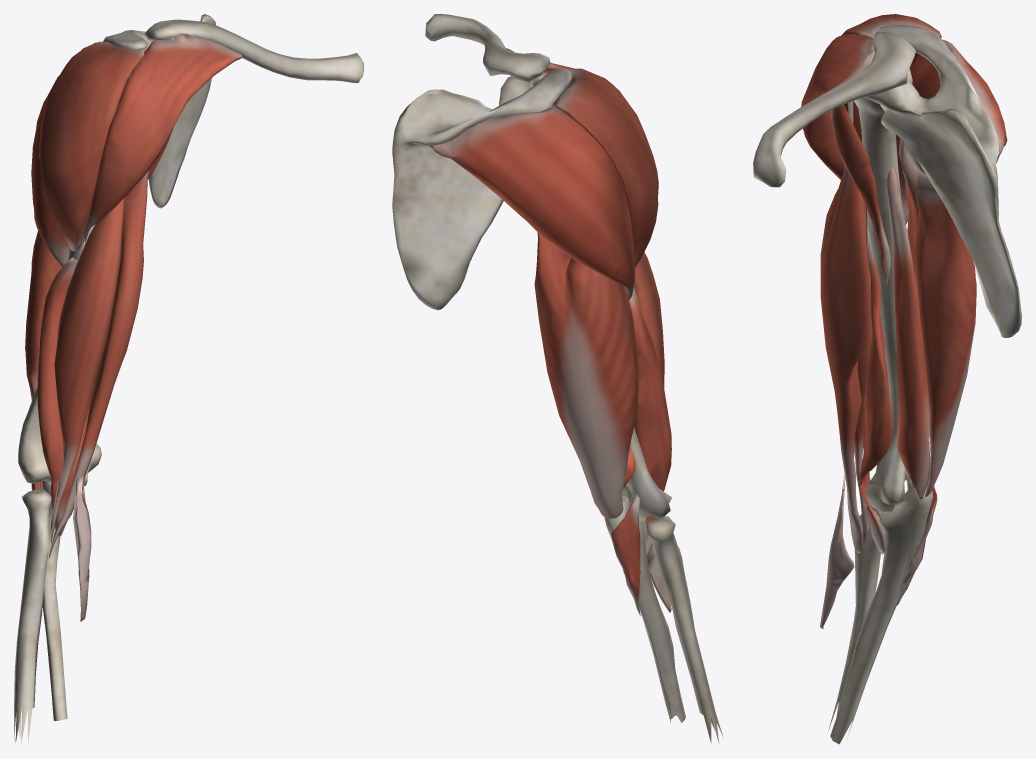
The model's file is arm-muscles.glb.
The picture shows the model from 3 angles, left to right: view 1: azimuth 30°, elevation 25°; view 2: azimuth 150°, elevation 25°; view 3: azimuth 270°, elevation 25°; orthographic projection. The views are drawn at different scales.
Parts seen in each view (by area): view 1: Middle_part_of_right_deltoid, Anterior_part_of_right_deltoid, Long_head_of_right_biceps_brachii, Short_head_of_right_biceps_brachii, Right_radius, Right_brachialis, Right_clavicle, Right_scapula, Right_ulna, Long_and_lateral_heads_of_right_triceps_brachii, Right_humerus, Posterior_part_of_right_deltoid (+1 smaller); view 2: Posterior_part_of_right_deltoid, Long_and_lateral_heads_of_right_triceps_brachii, Right_scapula, Middle_part_of_right_deltoid, Right_brachialis, Right_radius, Right_ulna, Right_clavicle, Right_anconeus, Right_humerus, Long_head_of_right_biceps_brachii, Right_bicipital_aponeurosis; view 3: Right_scapula, Long_and_lateral_heads_of_right_triceps_brachii, Short_head_of_right_biceps_brachii, Medial_head_of_right_triceps_brachii, Right_humerus, Right_ulna, Right_clavicle, Right_brachialis, Anterior_part_of_right_deltoid, Right_coracobrachialis, Posterior_part_of_right_deltoid, Right_radius (+4 smaller).
Part boxes in pixels (x1,y1,x2,y2): Middle_part_of_right_deltoid: [39, 42, 145, 251]; Anterior_part_of_right_deltoid: [82, 33, 242, 249]; Long_head_of_right_biceps_brachii: [50, 198, 124, 544]; Short_head_of_right_biceps_brachii: [48, 170, 148, 559]; Right_radius: [14, 488, 51, 743]; Right_brachialis: [37, 257, 89, 537]; Right_clavicle: [145, 19, 363, 82]; Right_scapula: [102, 14, 215, 208]; Right_ulna: [42, 481, 67, 720]; Long_and_lateral_heads_of_right_triceps_brachii: [25, 230, 62, 400]; Right_humerus: [18, 73, 131, 485]; Posterior_part_of_right_deltoid: [31, 41, 102, 266]; Posterior_part_of_right_deltoid: [429, 106, 634, 299]; Long_and_lateral_heads_of_right_triceps_brachii: [534, 232, 638, 518]; Right_scapula: [392, 68, 572, 310]; Middle_part_of_right_deltoid: [552, 68, 658, 267]; Right_brachialis: [629, 287, 671, 556]; Right_radius: [646, 516, 723, 743]; Right_ulna: [604, 495, 685, 722]; Right_clavicle: [425, 14, 550, 82]; Right_anconeus: [611, 494, 640, 615]; Right_humerus: [553, 106, 672, 518]; Long_head_of_right_biceps_brachii: [568, 83, 664, 388]; Right_bicipital_aponeurosis: [647, 546, 671, 612]; Right_scapula: [864, 25, 1021, 337]; Long_and_lateral_heads_of_right_triceps_brachii: [899, 138, 976, 496]; Short_head_of_right_biceps_brachii: [820, 166, 871, 553]; Medial_head_of_right_triceps_brachii: [887, 166, 930, 500]; Right_humerus: [854, 68, 912, 511]; Right_ulna: [830, 470, 933, 744]; Right_clavicle: [753, 32, 915, 187]; Right_brachialis: [859, 228, 892, 554]; Anterior_part_of_right_deltoid: [801, 34, 874, 179]; Right_coracobrachialis: [831, 104, 890, 286]; Posterior_part_of_right_deltoid: [895, 39, 1007, 224]; Right_radius: [828, 505, 882, 730].
Size of the model in its own units: 0.2502 by 0.4907 by 0.1511.
Materials: 16 (16 with a texture image).
